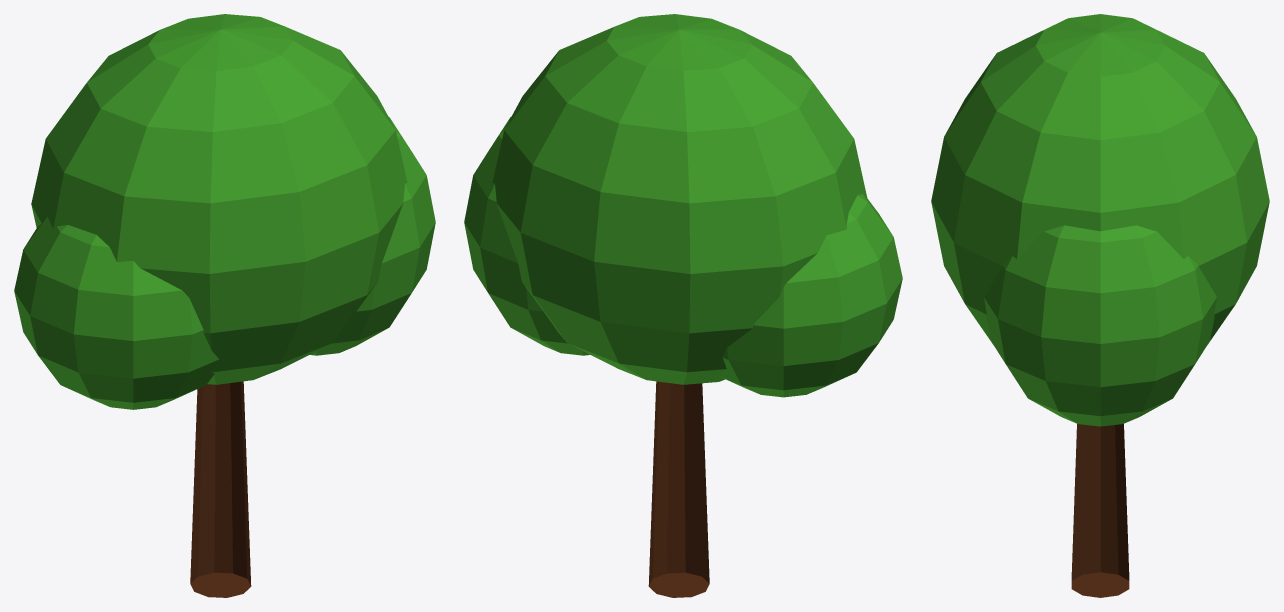
File: Tree_Round.obj
3 renders of one model, left to right at view 1: azimuth 30°, elevation 25°; view 2: azimuth 150°, elevation 25°; view 3: azimuth 270°, elevation 25°, orthographic.
Visible parts, largest first — view 1: Tree_Round; view 2: Tree_Round; view 3: Tree_Round.
Boxes of the visible parts, <box> form: Tree_Round: <box>14,14,435,597</box>; Tree_Round: <box>464,14,902,597</box>; Tree_Round: <box>931,14,1269,597</box>.
Size of the model in its own units: 2.7 by 3.6 by 2.
